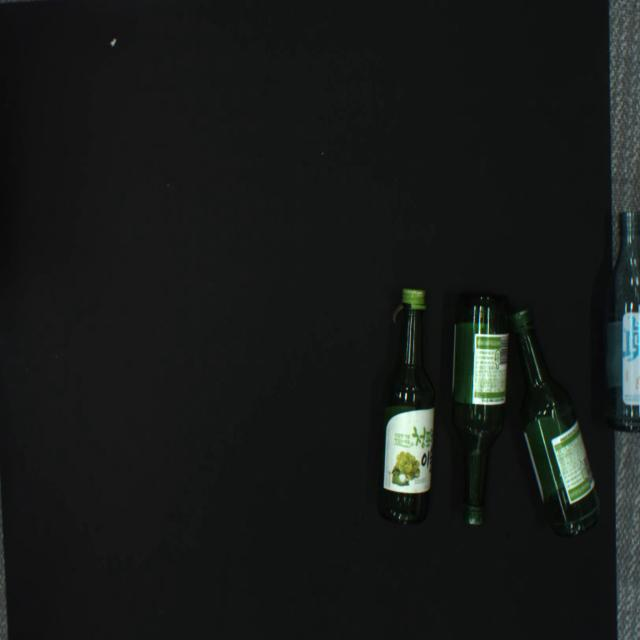soju-bottle: (509, 307, 601, 537), (450, 292, 510, 526), (377, 288, 435, 525), (601, 211, 640, 433)
